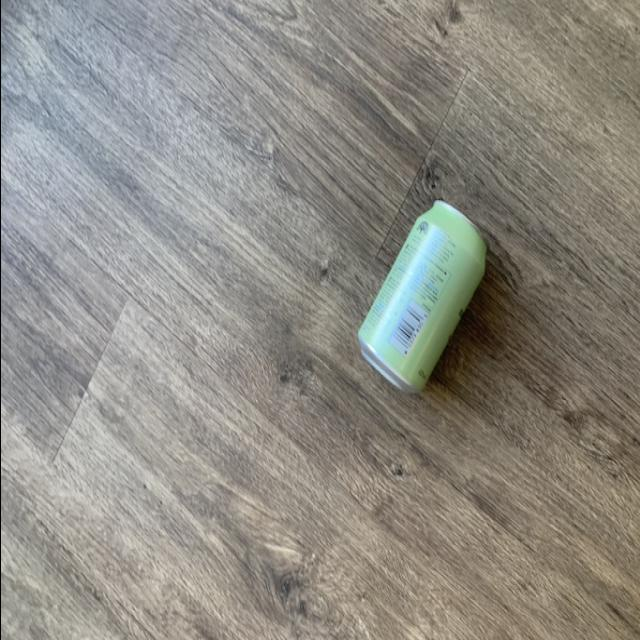Aluminum Can: (352, 192, 490, 408)
